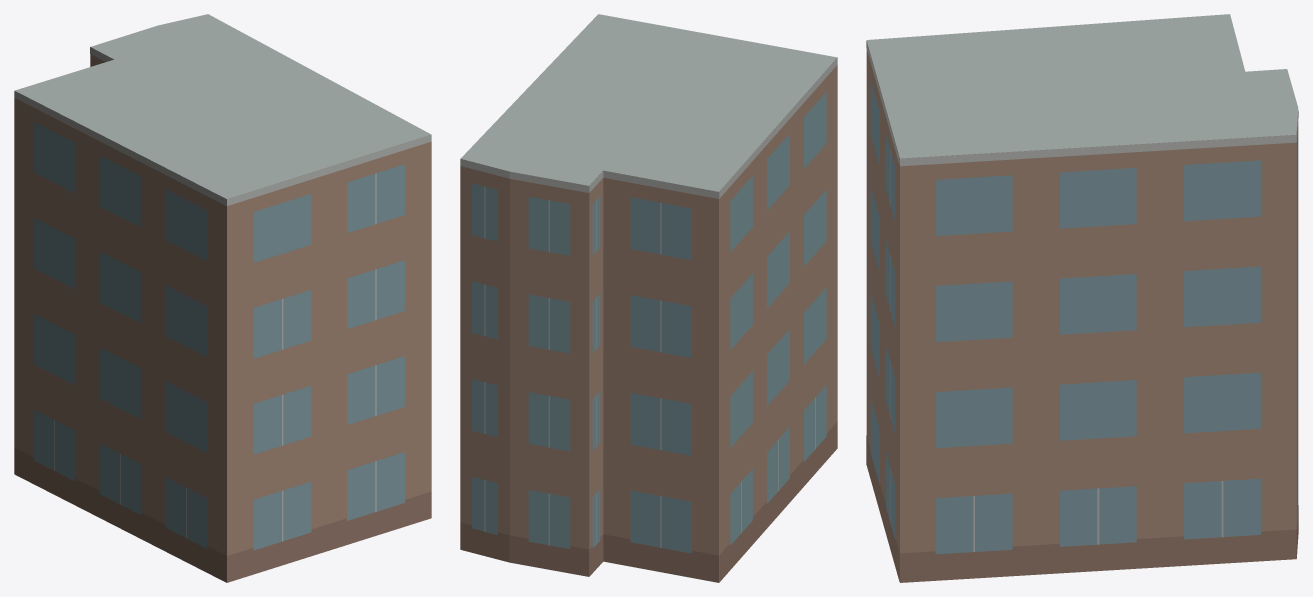
Rendered from survey-upis-32974785.glb.
3 views of the same model, side by side, from view 1: azimuth 30°, elevation 25°; view 2: azimuth 150°, elevation 25°; view 3: azimuth 270°, elevation 25° (orthographic). The views are drawn at different scales.
Parts seen in each view (by area): view 1: survey-upis-32974785.tmp; view 2: survey-upis-32974785.tmp; view 3: survey-upis-32974785.tmp.
Part boxes in pixels (box(x1,y1,x2,y2)): survey-upis-32974785.tmp: box(14, 14, 431, 582); survey-upis-32974785.tmp: box(460, 14, 837, 582); survey-upis-32974785.tmp: box(866, 14, 1298, 582).
Bounding box in the file's own units: 9.73 × 13.3 × 12.28.
